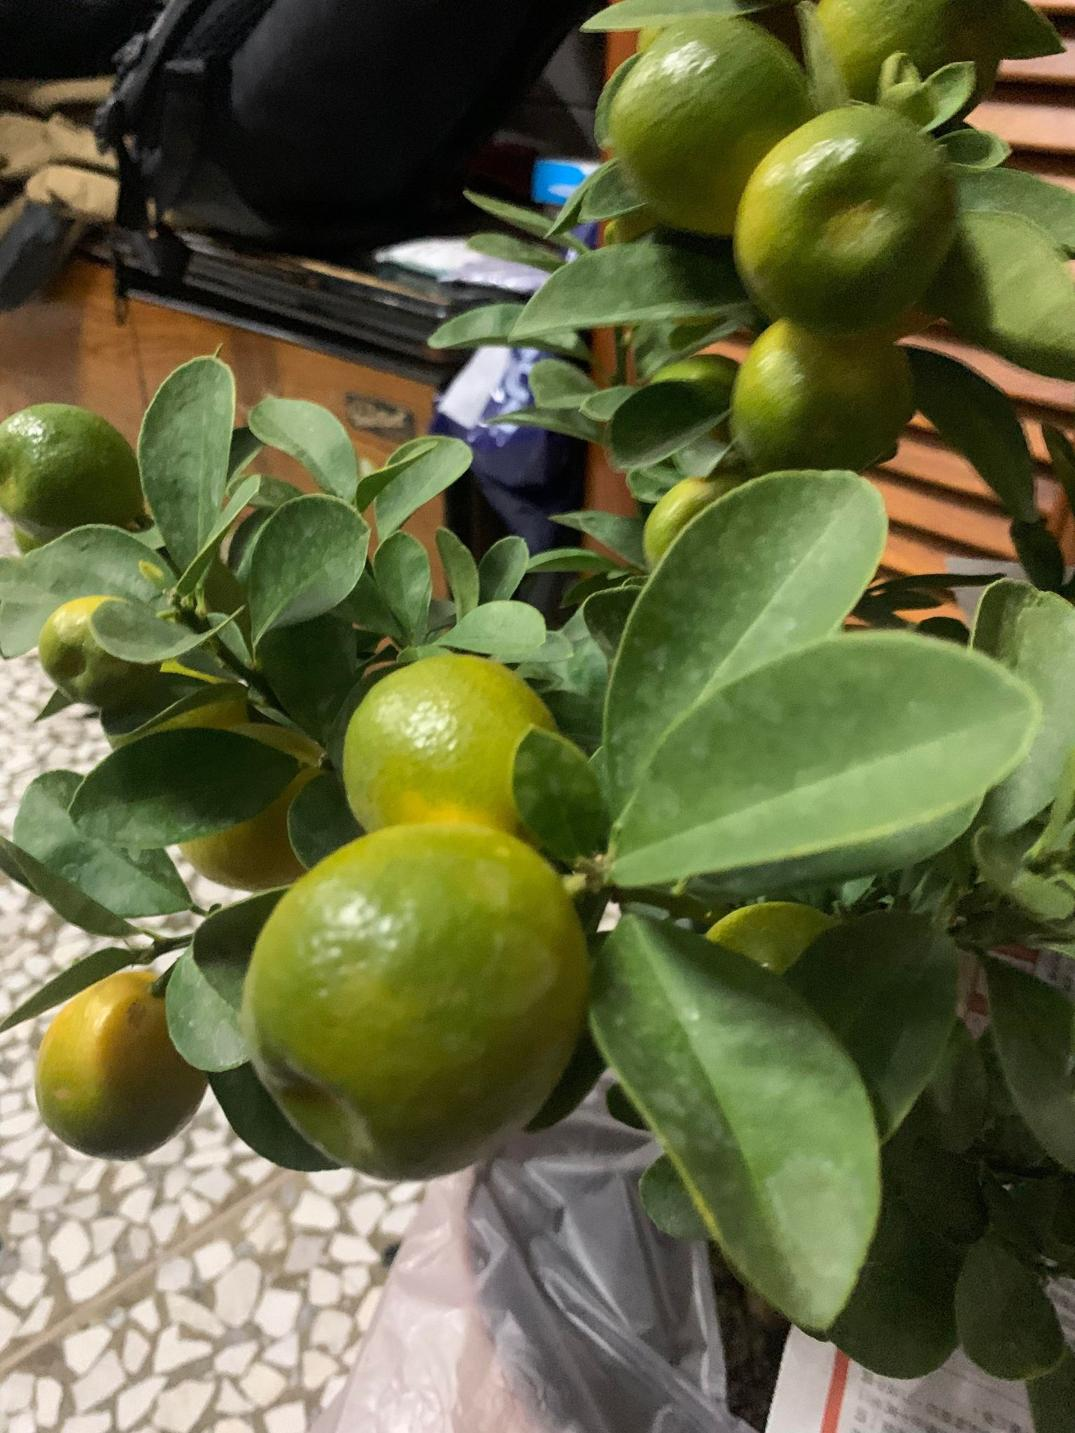Kumquat: (257, 807, 598, 1183), (734, 97, 953, 335), (337, 650, 575, 855), (618, 23, 802, 251), (29, 968, 210, 1163), (733, 320, 914, 463), (1, 388, 150, 538), (41, 589, 161, 705)
